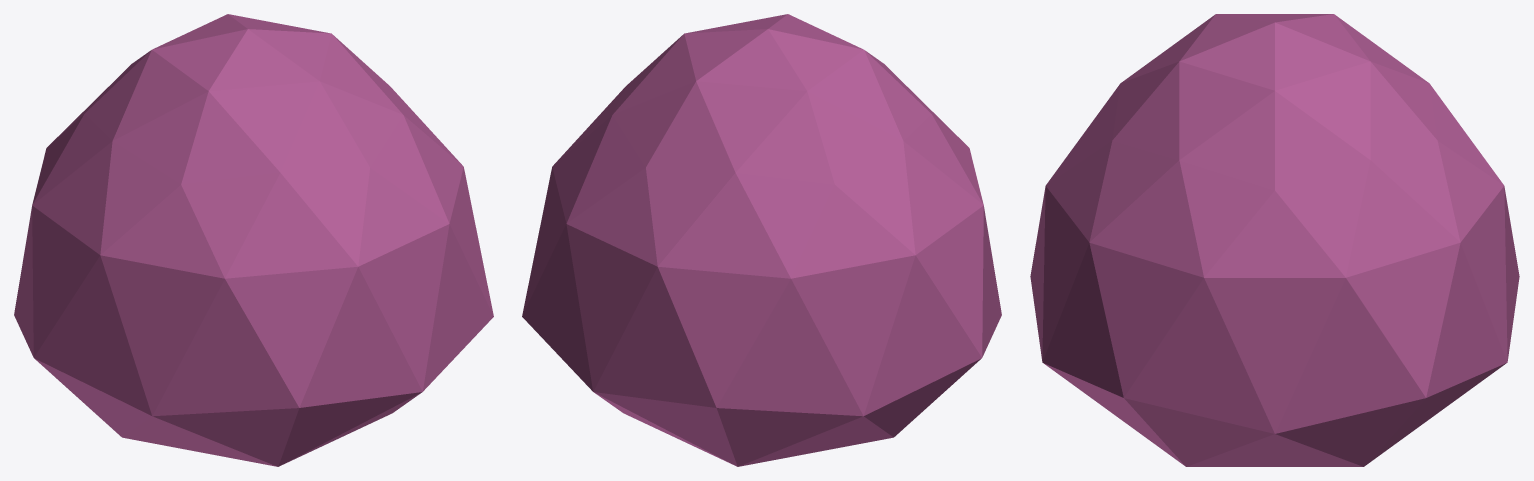
The model's file is Arbol Cereza Fase1.fbx.
3 views of the same model, side by side, from view 1: azimuth 30°, elevation 25°; view 2: azimuth 150°, elevation 25°; view 3: azimuth 270°, elevation 25° (orthographic). The views are drawn at different scales.
Parts seen in each view (by area): view 1: Icosphere; view 2: Icosphere; view 3: Icosphere.
Part boxes in pixels (bbox=[...]): Icosphere: bbox=[14, 14, 493, 466]; Icosphere: bbox=[522, 14, 1001, 466]; Icosphere: bbox=[1030, 14, 1519, 466].
Bounding box in the file's own units: 80.95 × 76.85 × 78.92.
